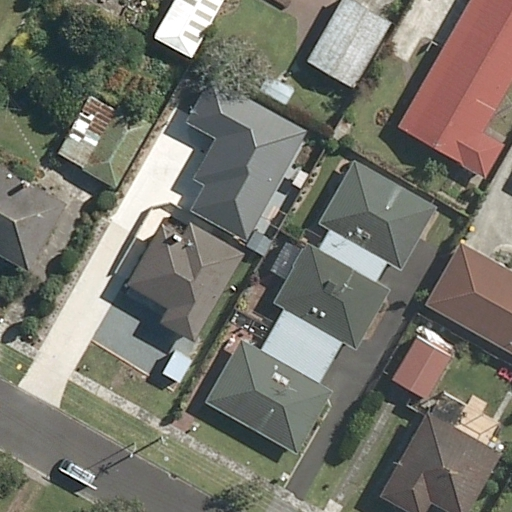DT: (153, 433, 172, 452)
